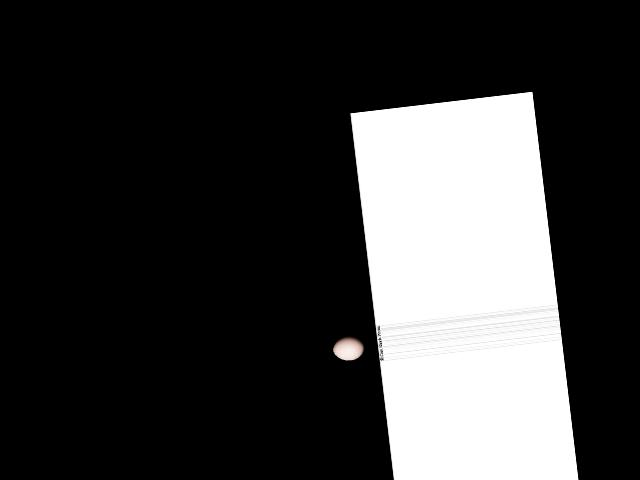egg: (331, 334, 366, 361)
